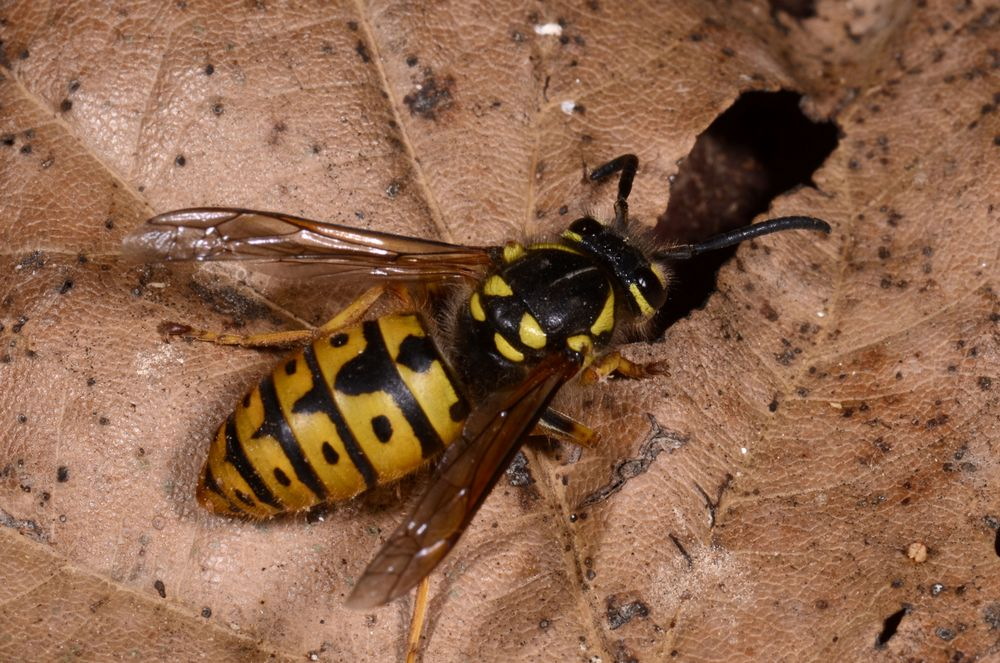chax: (95, 104, 856, 613)
